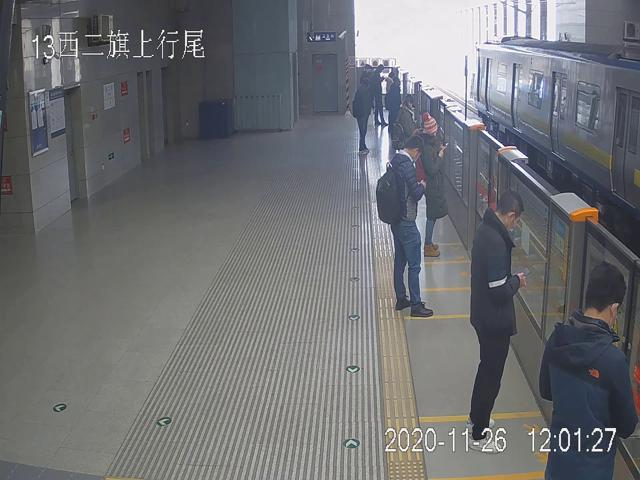person: (539, 260, 637, 480), (469, 187, 526, 455), (387, 134, 435, 318), (420, 113, 448, 256), (355, 76, 372, 155), (397, 91, 416, 147)
